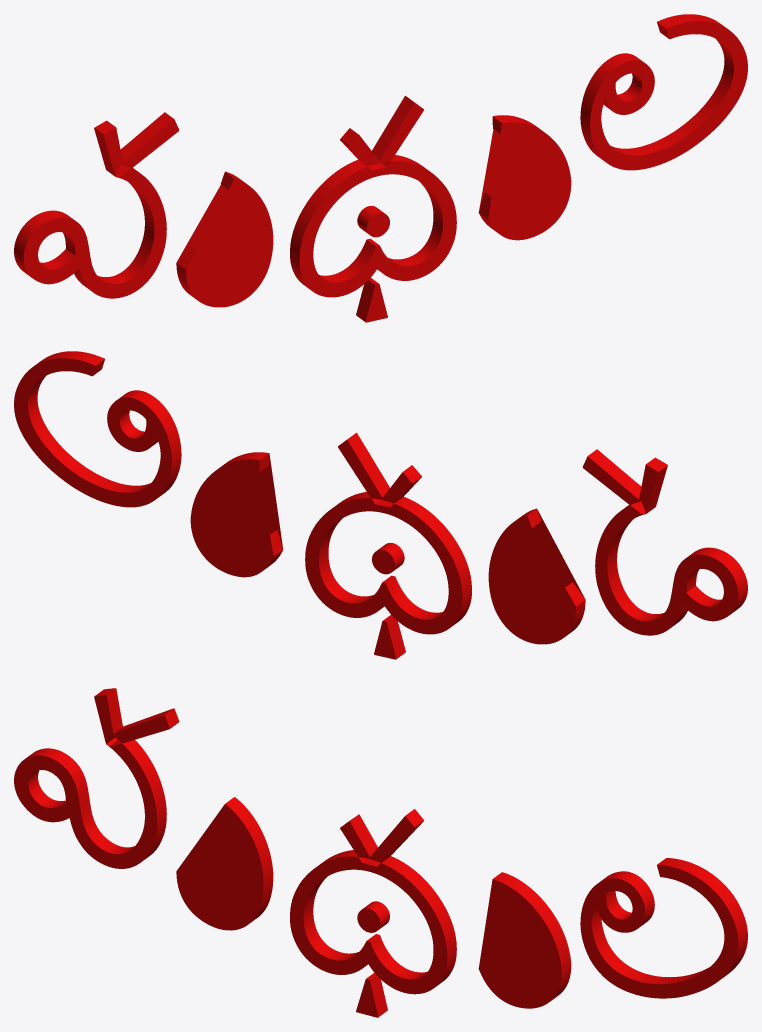
The model's file is Text_sign_18.fbx.
The picture shows the model from 3 angles, top to bottom: view 1: azimuth 30°, elevation 25°; view 2: azimuth 150°, elevation 25°; view 3: azimuth 330°, elevation 25°; orthographic projection.
Visible parts, largest first — view 1: Text_sign_18; view 2: Text_sign_18; view 3: Text_sign_18.
Part boxes in pixels (<box>): Text_sign_18: <box>14,14,747,322</box>; Text_sign_18: <box>14,351,747,659</box>; Text_sign_18: <box>14,688,747,1017</box>.
Size of the model in its own units: 110 by 37.18 by 2.52.
